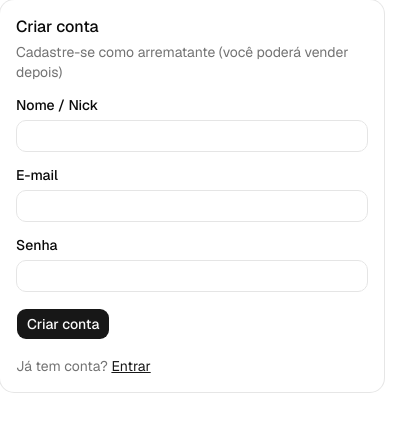
it: RegisterForm — erro de campo no DOM real › revela o erro do campo nome no blur e liga o input via aria-describedby
Type "a" into the field labelled "Nome / Nick".
click(192, 136); type("a")  # box [16,120,368,152]
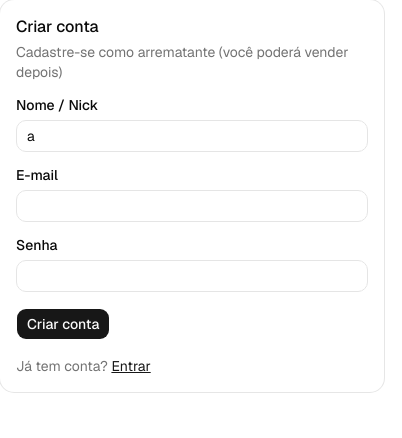
Leave the field labelled "Nome / Nick", box [16,120,368,152]
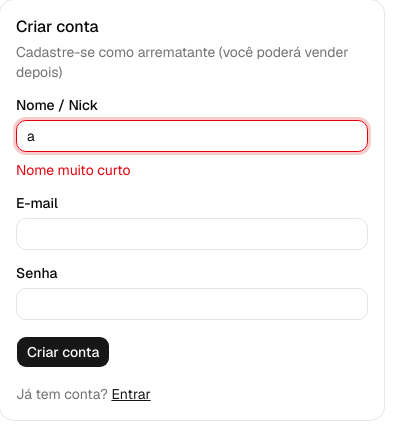
Expected: the message "Nome muito curto" is shown, [16,161,131,179]
